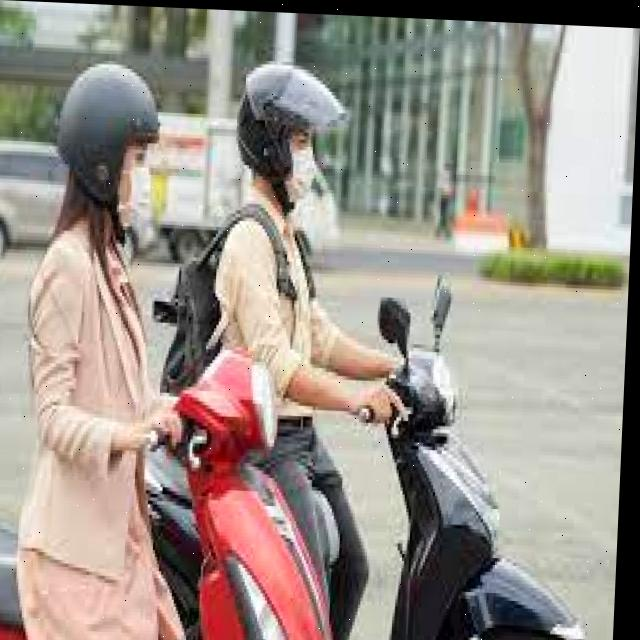Helmet: (54, 60, 164, 206), (235, 53, 351, 188)
